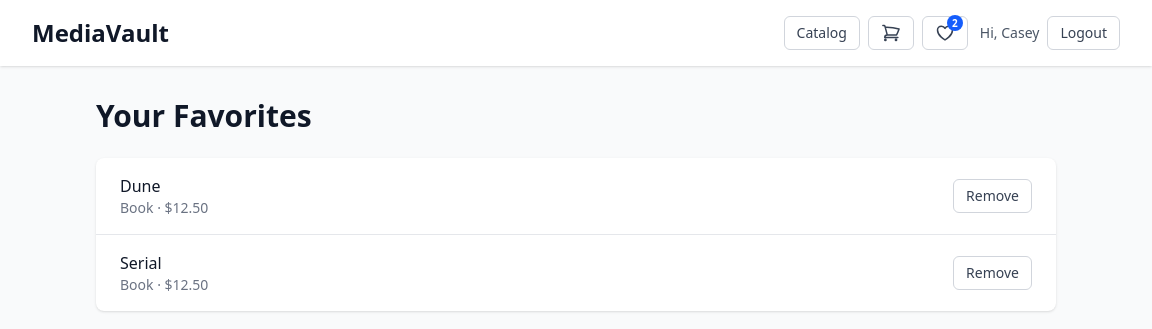
Test case: FavoritesPage › removes a favorite and drops it from the list
Check: the text "Dune" is shown, box 120,175 -> 160,197
Click the button "Remove" in the row of "Dune".
click(993, 196)  # box 953,179 -> 1032,213
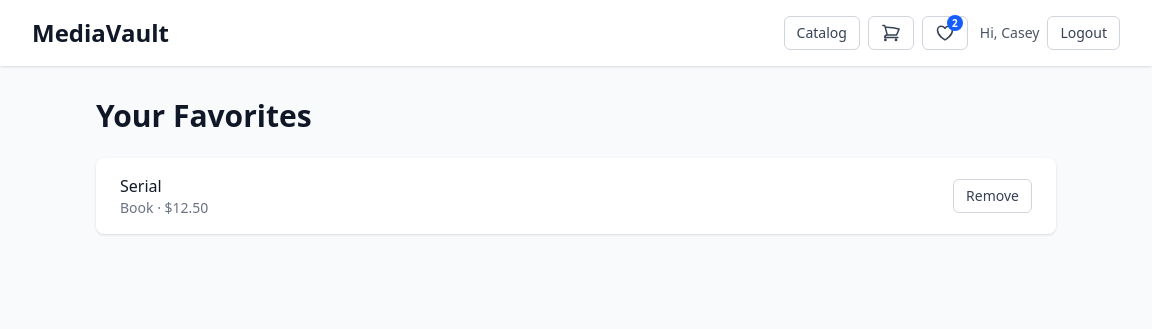
Check: the text "Serial" is shown, box 120,175 -> 162,197
Check: the text "Dune" is gone
